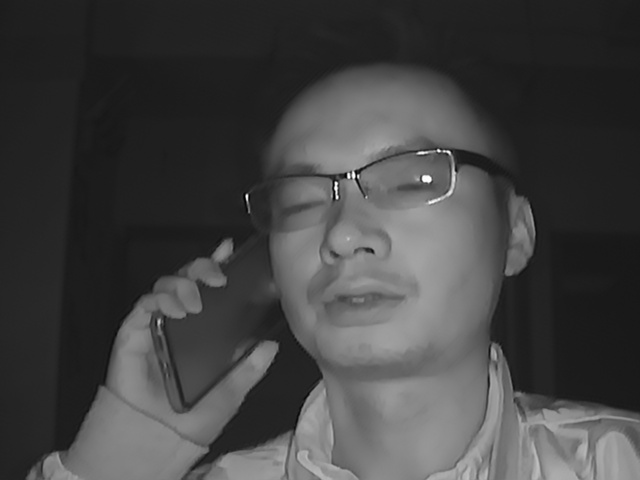hand: (109, 236, 280, 437)
